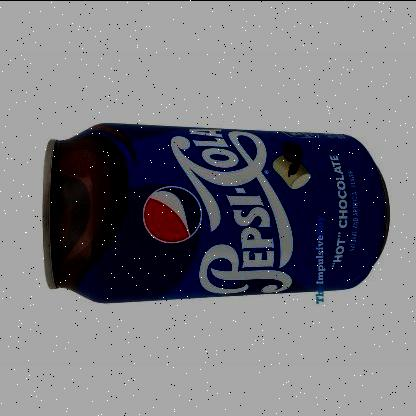Can: (37, 120, 390, 304)
